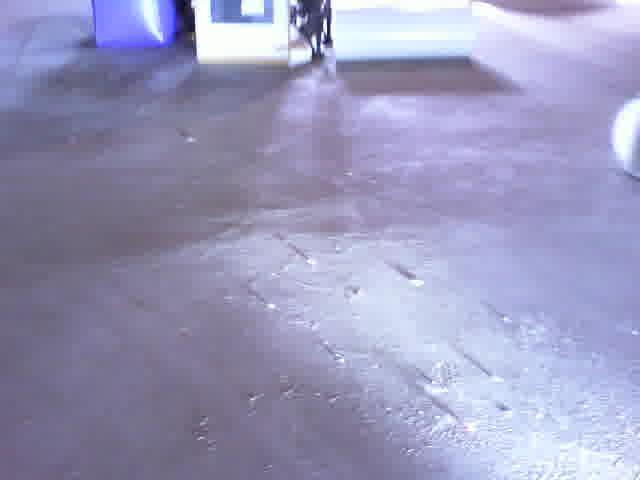coral: (331, 0, 476, 65), (610, 96, 640, 179)
